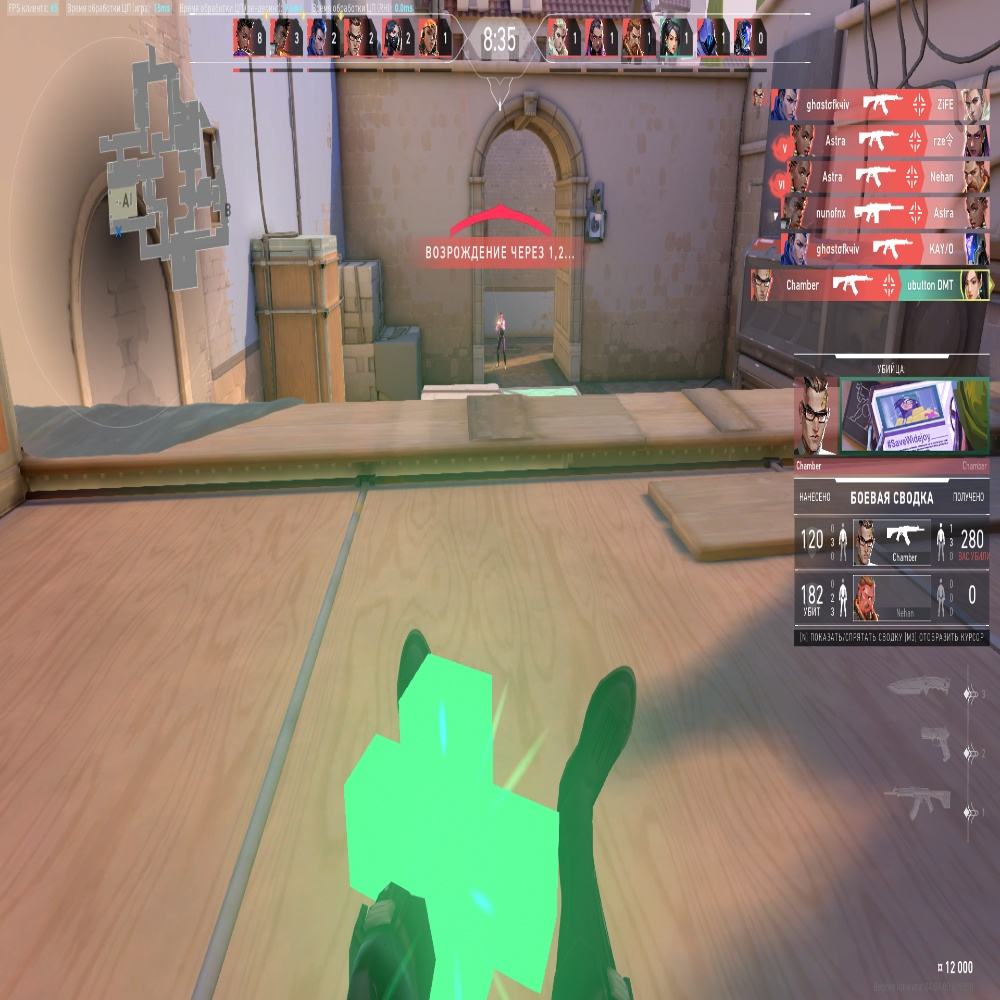body: (496, 321, 506, 336)
head: (499, 313, 503, 320)
